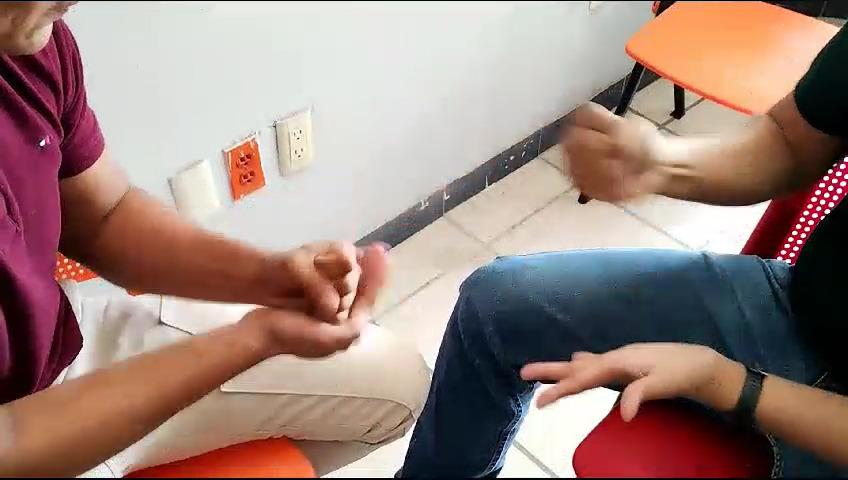Stone: (553, 85, 677, 217), (265, 222, 373, 338)
